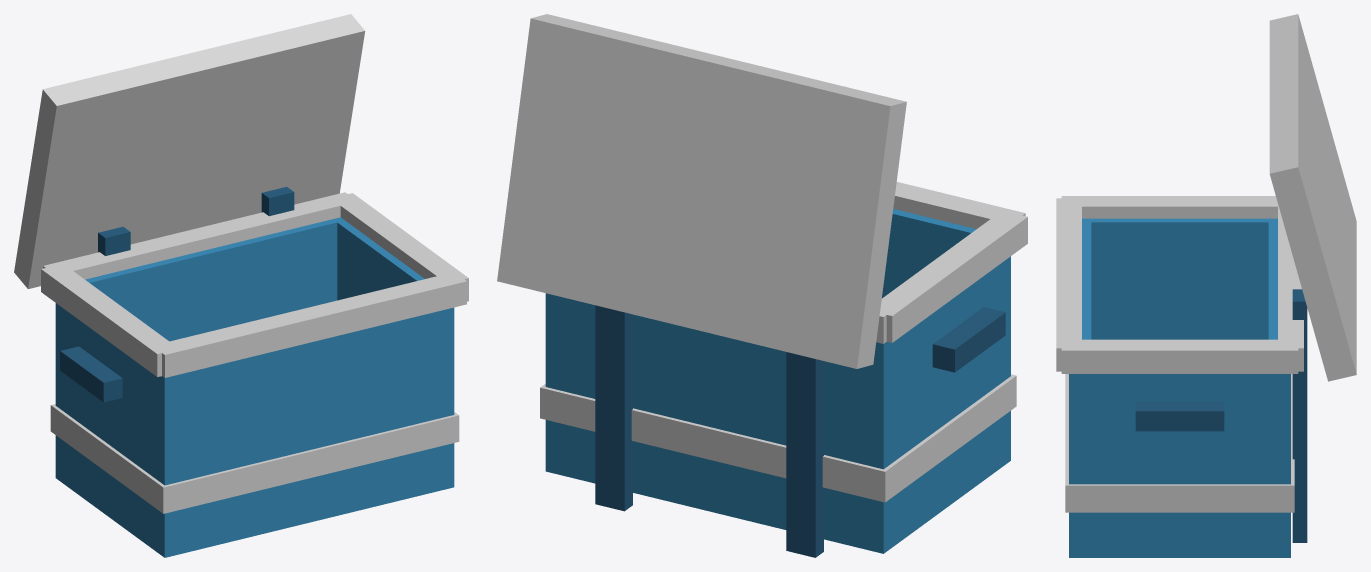
File: cooler_small.glb
The picture shows the model from 3 angles, left to right: view 1: azimuth 30°, elevation 25°; view 2: azimuth 150°, elevation 25°; view 3: azimuth 270°, elevation 25°; orthographic projection. The views are drawn at different scales.
Parts seen in each view (by area): view 1: cooler; view 2: cooler; view 3: cooler.
Part boxes in pixels (x1,y1,x2,y2): cooler: (14,14,468,557); cooler: (497,14,1027,557); cooler: (1056,14,1356,557).
Bounding box in the file's own units: 0.55 × 0.605 × 0.4065.
